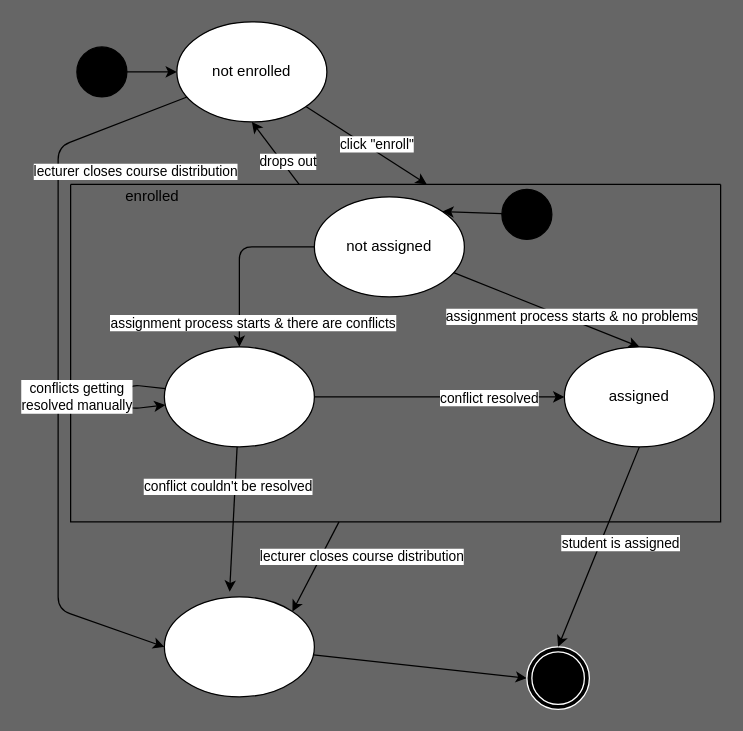
This 743x731 diagram has some shape labels left out. Here are the shapes that lost their labels. From the top down, the centre of each, then its label:
At pixel 238 396: "in conflict".
At pixel 238 646: "terminated".
